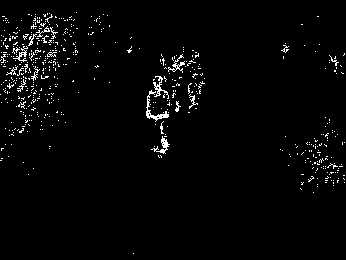person: (144, 74, 173, 159)
